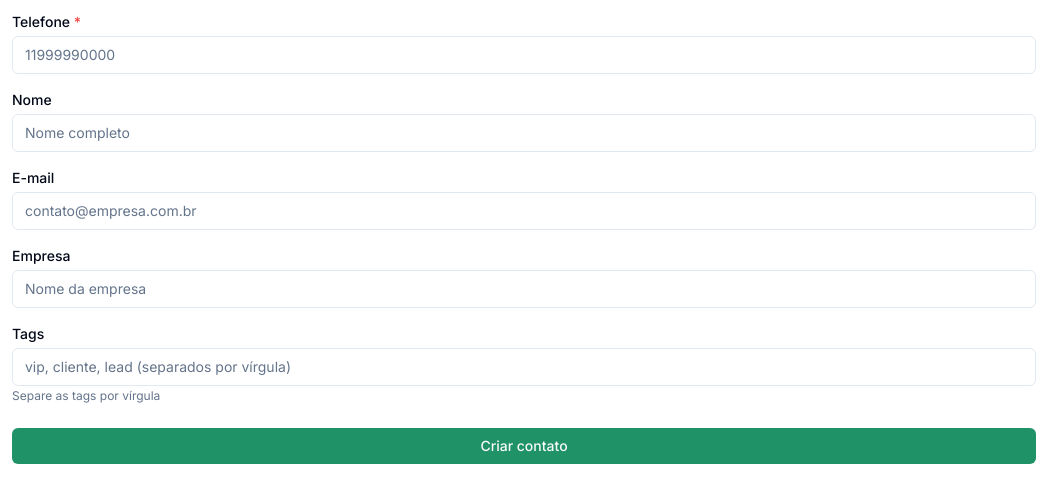
Test: ContactForm › exibe erro quando telefone está vazio ao submeter
The width and height of the screenshot is (1048, 501).
What coordinates should you click on to do the following:
click the button "Criar contato"
I would click on:
 (524, 446)
Its box is [12, 428, 1036, 464].
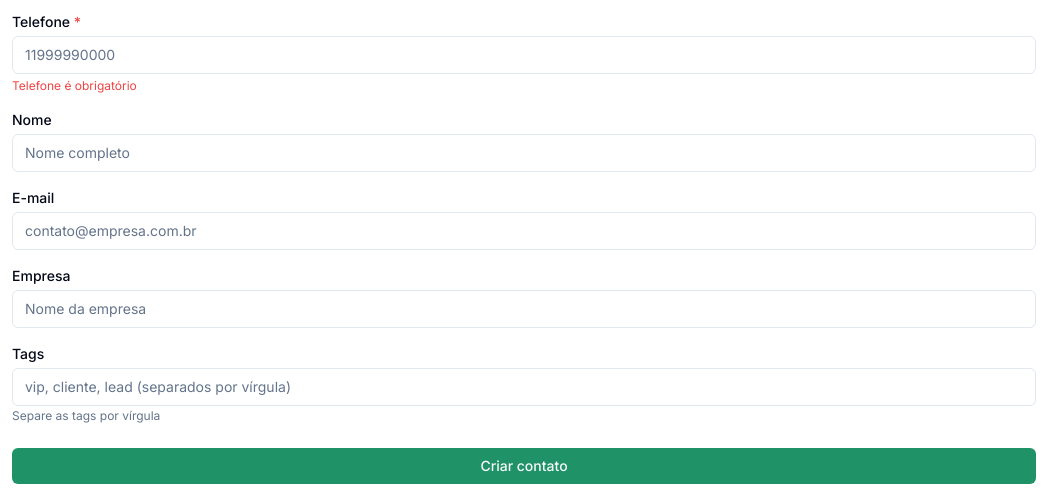
Result: the text "Telefone é obrigatório" is shown at [12, 78, 137, 93]
